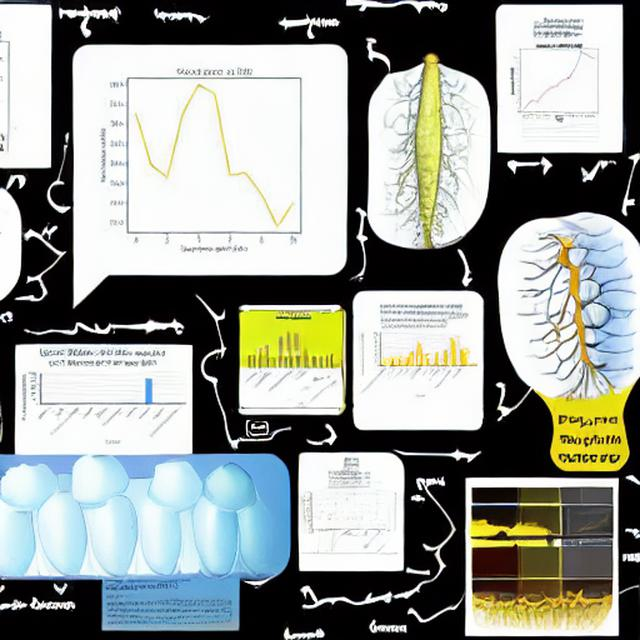Graph: (77, 54, 345, 255), (18, 348, 187, 446), (503, 39, 613, 122), (359, 320, 468, 399), (302, 485, 391, 537), (563, 508, 614, 538)
